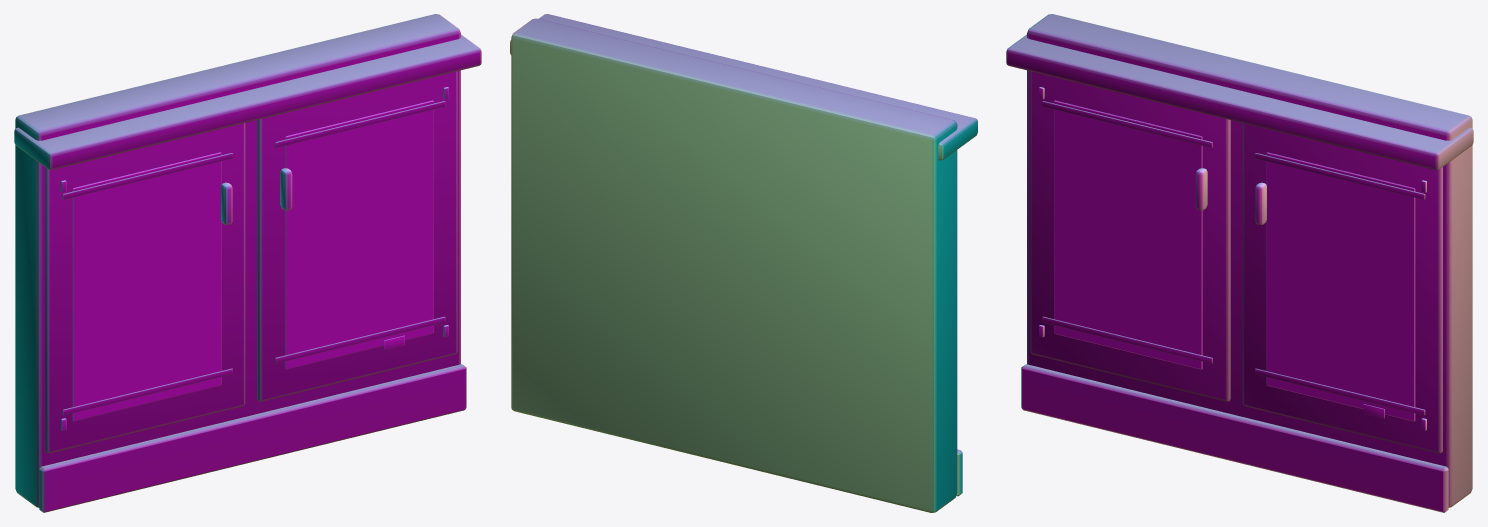
The model's file is env_cabinet.glb.
3 views of the same model, side by side, from view 1: azimuth 30°, elevation 25°; view 2: azimuth 150°, elevation 25°; view 3: azimuth 330°, elevation 25° (orthographic).
Visible parts, largest first — view 1: env_cabinet_mesh; view 2: env_cabinet_mesh; view 3: env_cabinet_mesh.
Part boxes in pixels (x1,y1,x2,y2): env_cabinet_mesh: [14, 14, 481, 512]; env_cabinet_mesh: [510, 14, 977, 512]; env_cabinet_mesh: [1006, 14, 1473, 512].
Bounding box in the file's own units: 2.04 × 1.7 × 0.33.
